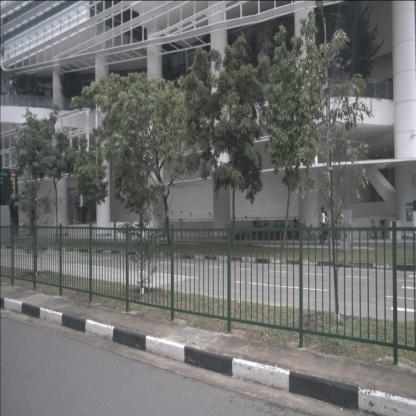human-pedestrian-adult: (317, 206, 326, 246), (321, 206, 328, 244)
vehicle-bicycle: (297, 221, 318, 241), (231, 228, 247, 242), (378, 218, 386, 240), (369, 218, 377, 239)
